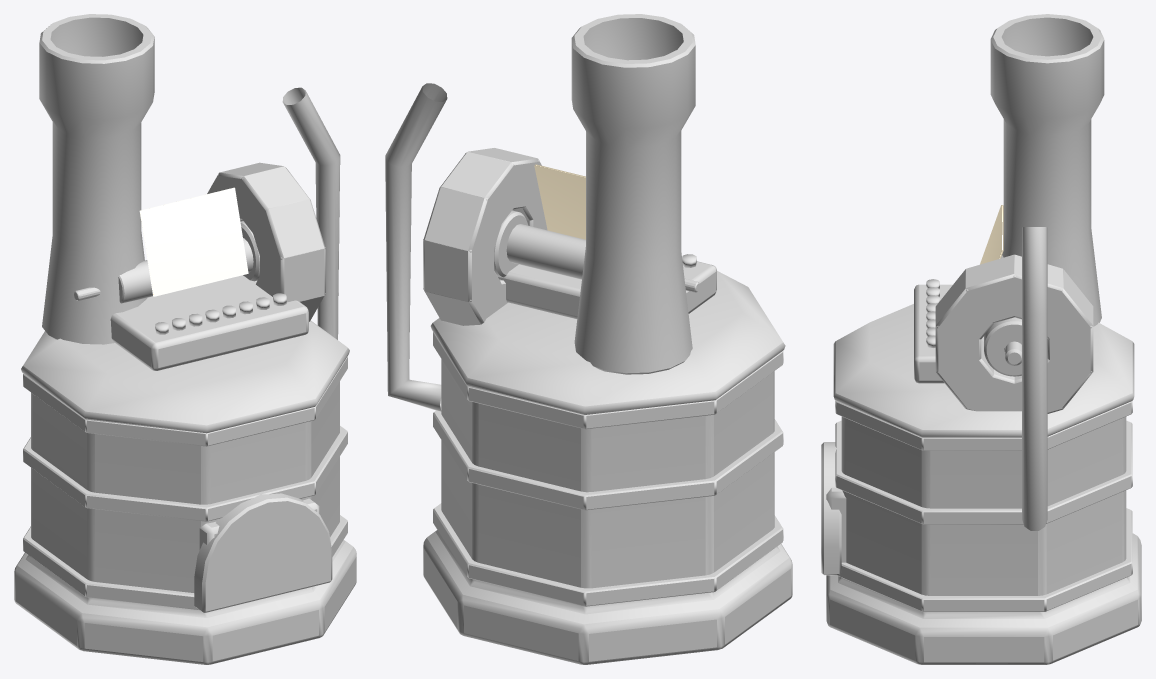
File: prop_content_forge.glb
The picture shows the model from 3 angles, left to right: view 1: azimuth 30°, elevation 25°; view 2: azimuth 150°, elevation 25°; view 3: azimuth 270°, elevation 25°; orthographic projection. The views are drawn at different scales.
Visible parts, largest first — view 1: ground__brick_decay, ground__soot_iron, ground__iron_decay, ground__brass_pipe, ground__parchment; view 2: ground__brick_decay, ground__soot_iron, ground__brass_pipe, ground__iron_decay, ground__parchment; view 3: ground__brick_decay, ground__brass_pipe, ground__soot_iron, ground__iron_decay, ground__parchment.
Part boxes in pixels (<box>): ground__brick_decay: <box>14,320,356,664</box>; ground__soot_iron: <box>39,14,319,549</box>; ground__iron_decay: <box>23,238,347,612</box>; ground__brass_pipe: <box>74,87,340,370</box>; ground__parchment: <box>139,187,248,296</box>; ground__brick_decay: <box>423,271,792,664</box>; ground__soot_iron: <box>571,14,695,374</box>; ground__brass_pipe: <box>385,83,716,411</box>; ground__iron_decay: <box>433,224,783,606</box>; ground__parchment: <box>534,164,585,239</box>; ground__brick_decay: <box>826,304,1141,664</box>; ground__brass_pipe: <box>914,227,1093,530</box>; ground__soot_iron: <box>826,14,1104,562</box>; ground__iron_decay: <box>821,255,1132,611</box>; ground__parchment: <box>980,205,1003,264</box>.
Bounding box in the file's own units: 1.42 × 2.33 × 1.26.
